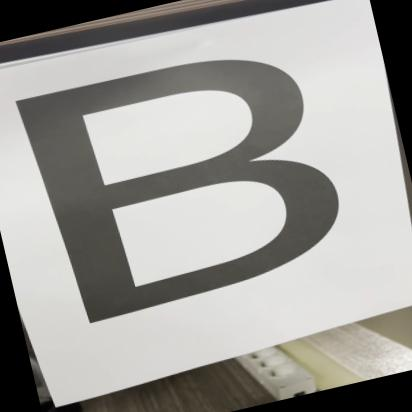seat: (0, 21, 381, 340)
